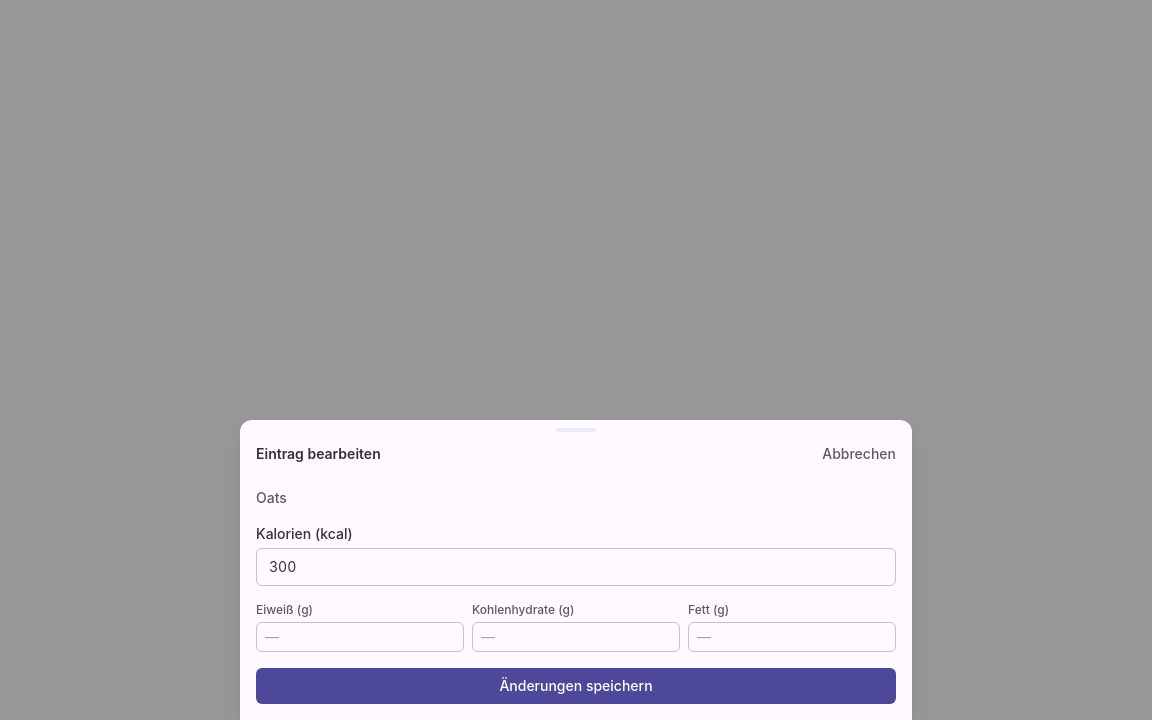
Scenario: EditEntryDrawer — quick entry › shows backend 400 error inline without closing
The width and height of the screenshot is (1152, 720).
Replace the text in the field labelled "Kalorien (kcal)" with "400" at [576, 567], box left=256, top=548, right=896, bottom=586
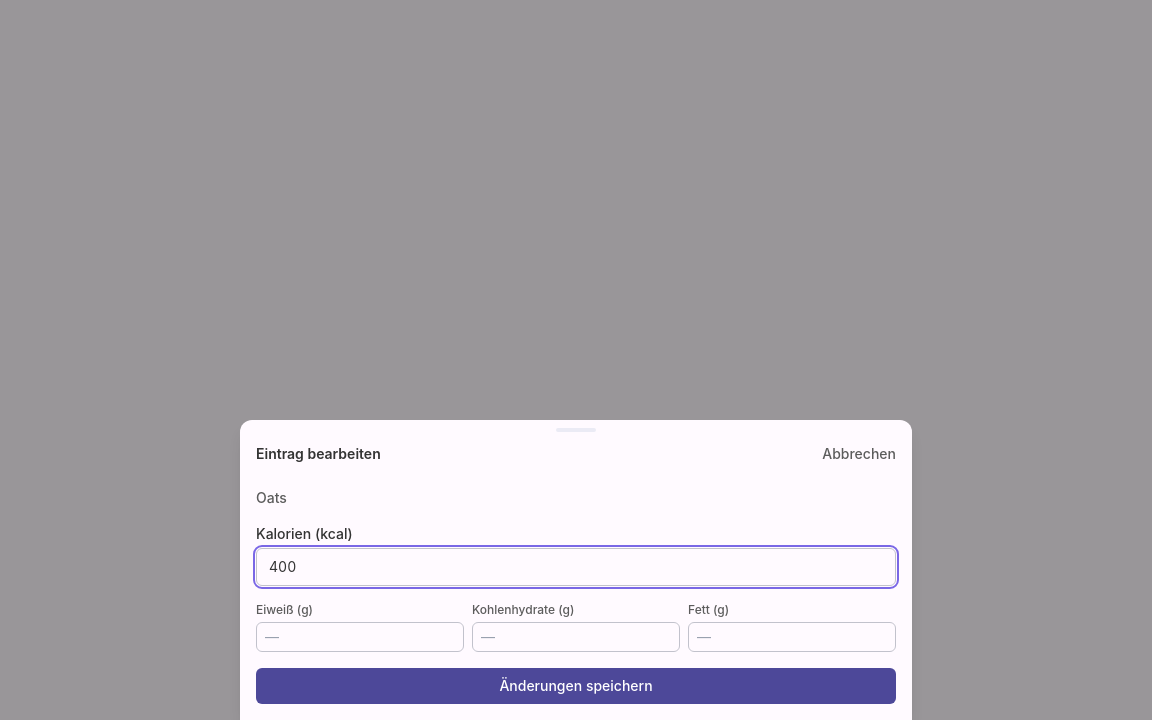
Click the button "Änderungen speichern" at [576, 686], box left=256, top=668, right=896, bottom=704
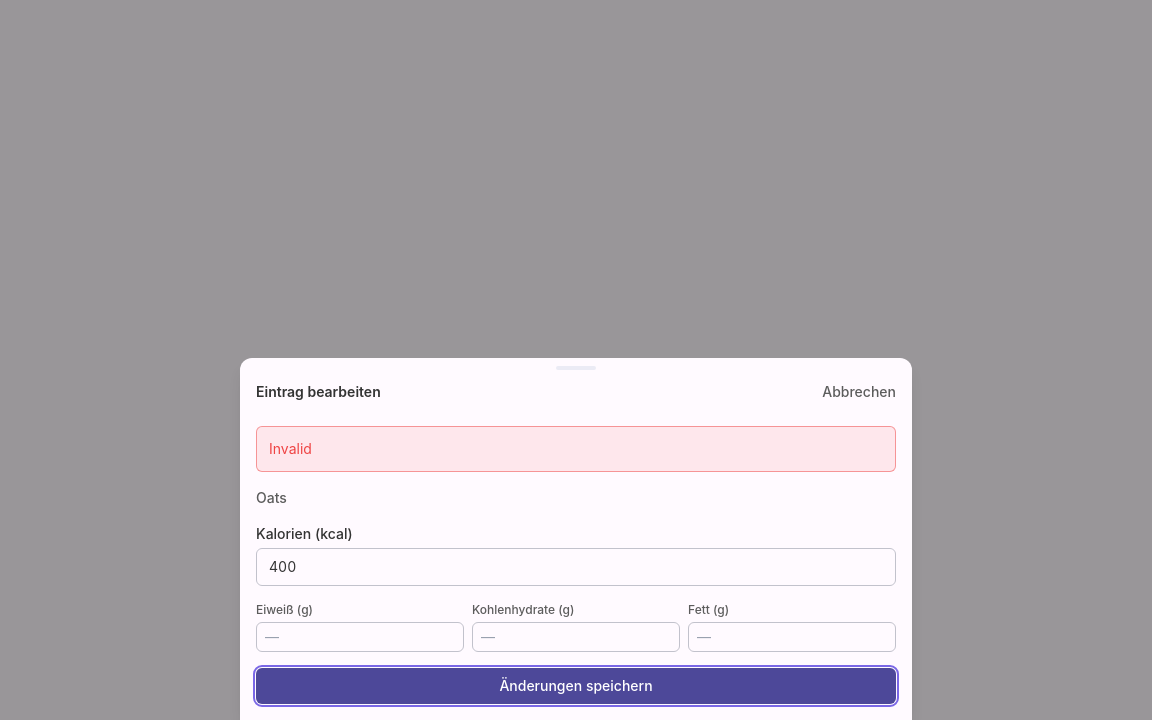
Expected: the message "Invalid" is shown, left=256, top=426, right=896, bottom=472
